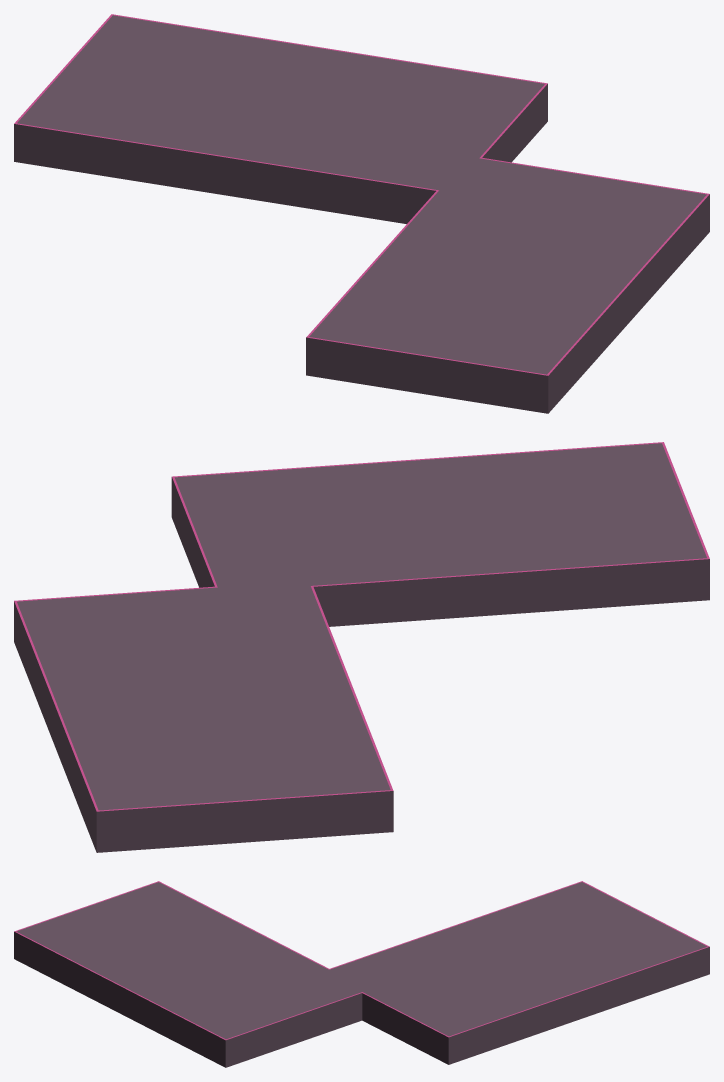
File: way-1275168896.glb
3 views of the same model, one above another, from view 1: azimuth 30°, elevation 25°; view 2: azimuth 150°, elevation 25°; view 3: azimuth 270°, elevation 25° (orthographic). The views are drawn at different scales.
Parts seen in each view (by area): view 1: way-1275168896; view 2: way-1275168896; view 3: way-1275168896.
Boxes of the visible parts, <box> form: way-1275168896: <box>14,14,709,413</box>; way-1275168896: <box>14,442,709,852</box>; way-1275168896: <box>14,881,709,1067</box>.
Size of the model in its own units: 37.2 by 3 by 68.67.
